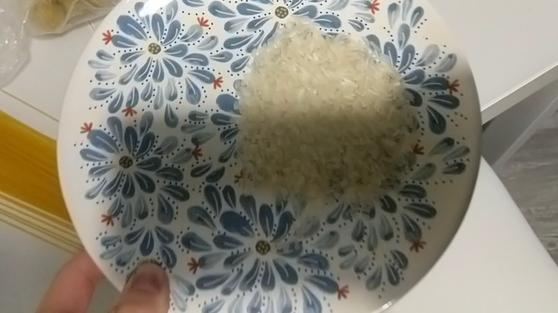rice: (218, 15, 419, 220)
